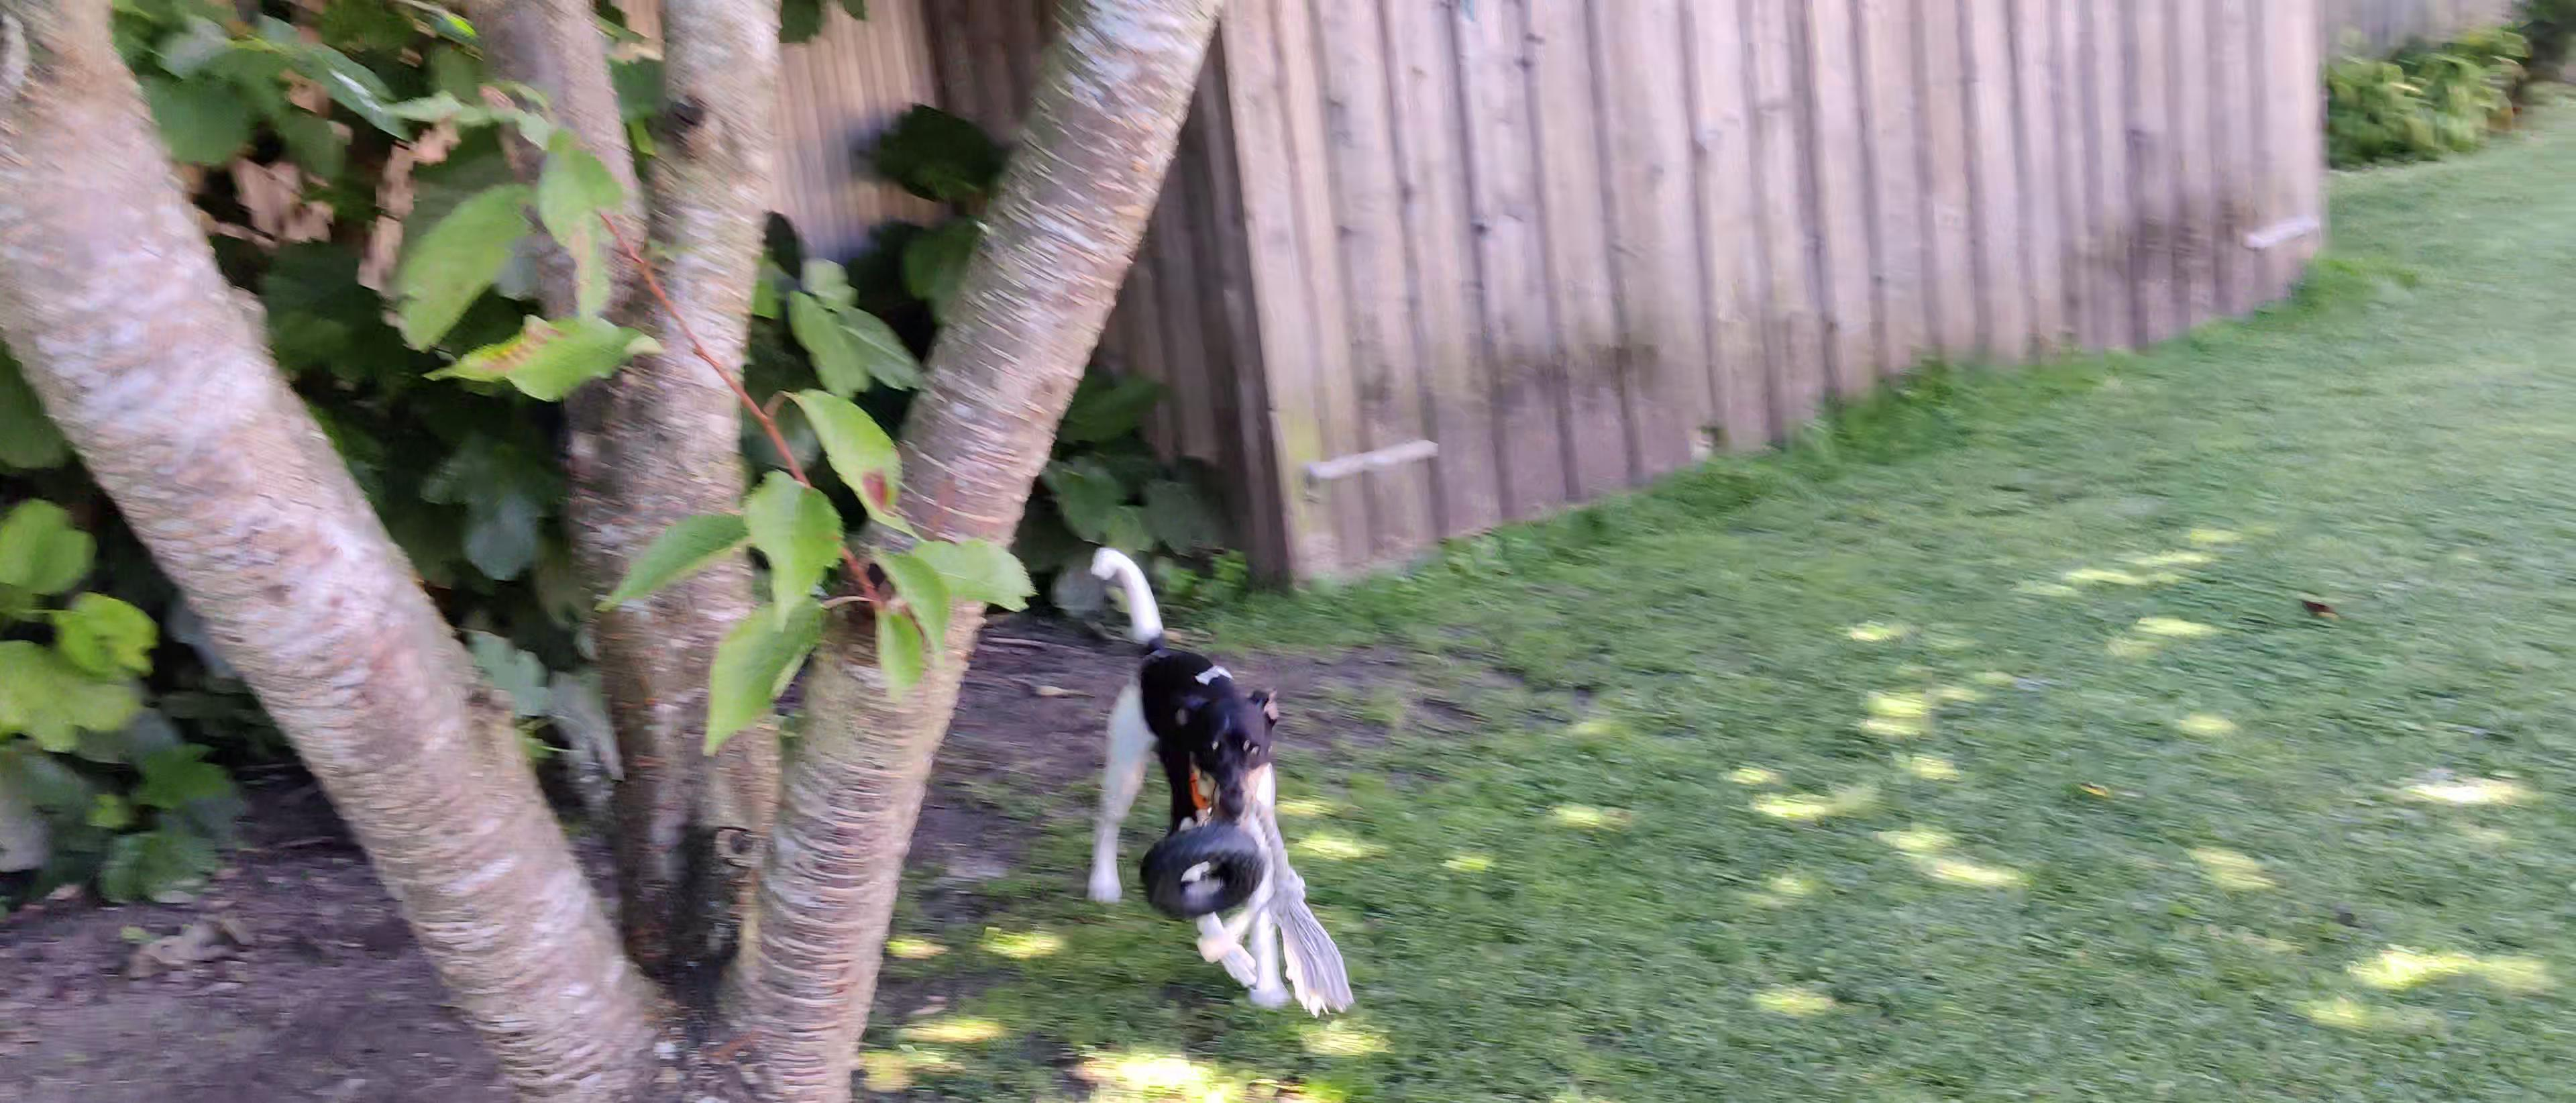Dog: (1078, 539, 1299, 1019)
